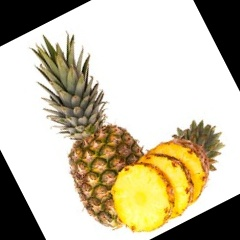Pineapple: (30, 32, 152, 230)
